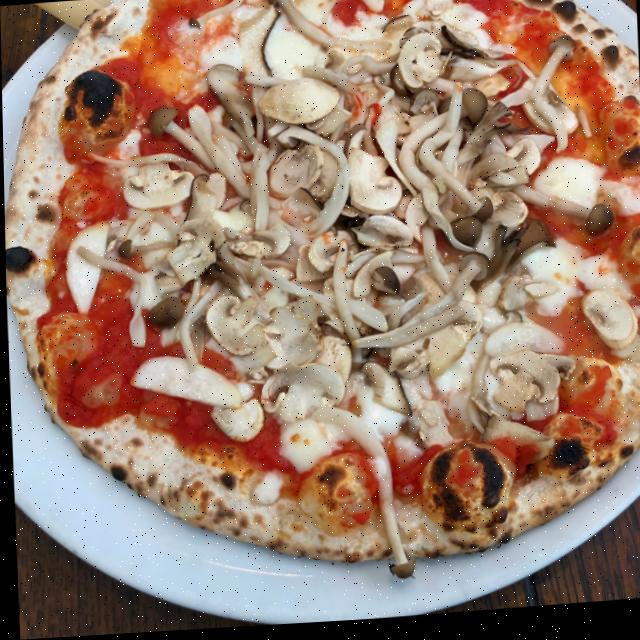mushrooms: (386, 304, 483, 385), (256, 363, 346, 427), (144, 103, 218, 179), (483, 351, 561, 422), (340, 145, 405, 221), (163, 218, 226, 291), (258, 80, 345, 132), (578, 290, 640, 358), (204, 293, 262, 362), (117, 159, 191, 212), (262, 145, 330, 202), (519, 81, 577, 147), (359, 363, 412, 421), (209, 397, 265, 449), (397, 34, 440, 101), (225, 224, 293, 265), (352, 217, 415, 259), (307, 231, 360, 278), (312, 338, 356, 389), (490, 191, 534, 238), (499, 139, 541, 188)
pizza: (0, 0, 640, 609)
